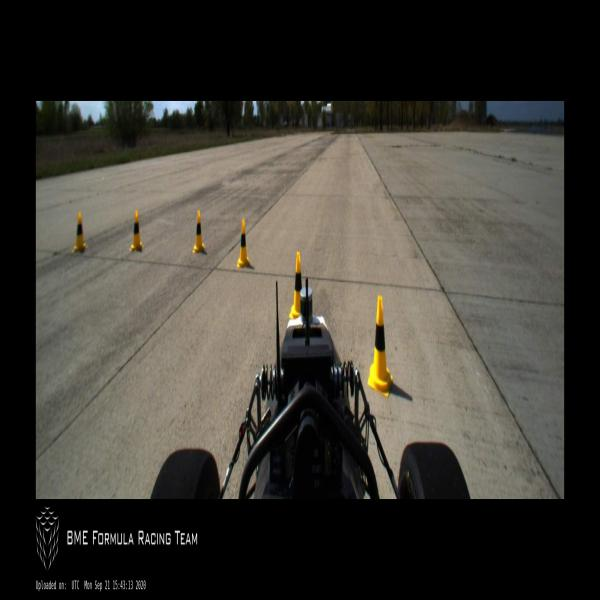yellow_cone: (368, 296, 392, 397), (289, 251, 304, 322), (237, 219, 249, 269), (129, 210, 143, 252), (73, 212, 87, 254), (193, 210, 204, 254)
